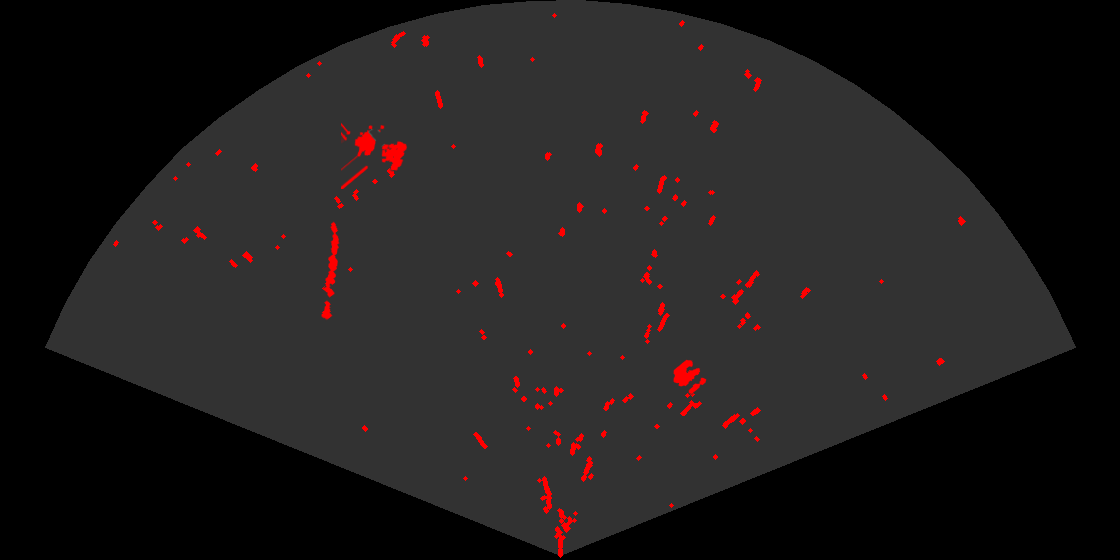ball: (672, 358, 708, 396)
cage: (341, 121, 409, 189)
chain: (320, 220, 341, 322)
